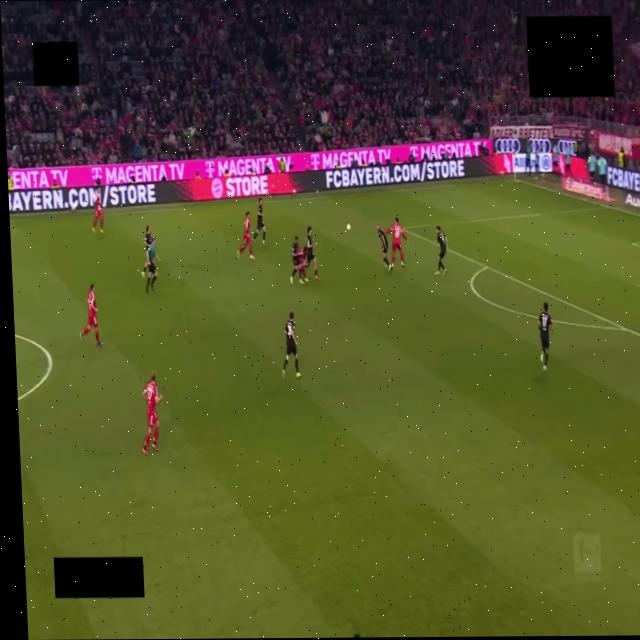ball: (346, 224, 350, 230)
player: (143, 372, 162, 454), (80, 284, 102, 346), (282, 312, 300, 378), (538, 302, 555, 371), (385, 218, 407, 270), (237, 212, 254, 259), (306, 227, 319, 280), (290, 236, 304, 284), (253, 198, 266, 244), (435, 226, 447, 275), (377, 225, 389, 268), (93, 187, 103, 232), (298, 249, 308, 283), (145, 226, 152, 250)
referee: (146, 237, 157, 292)
